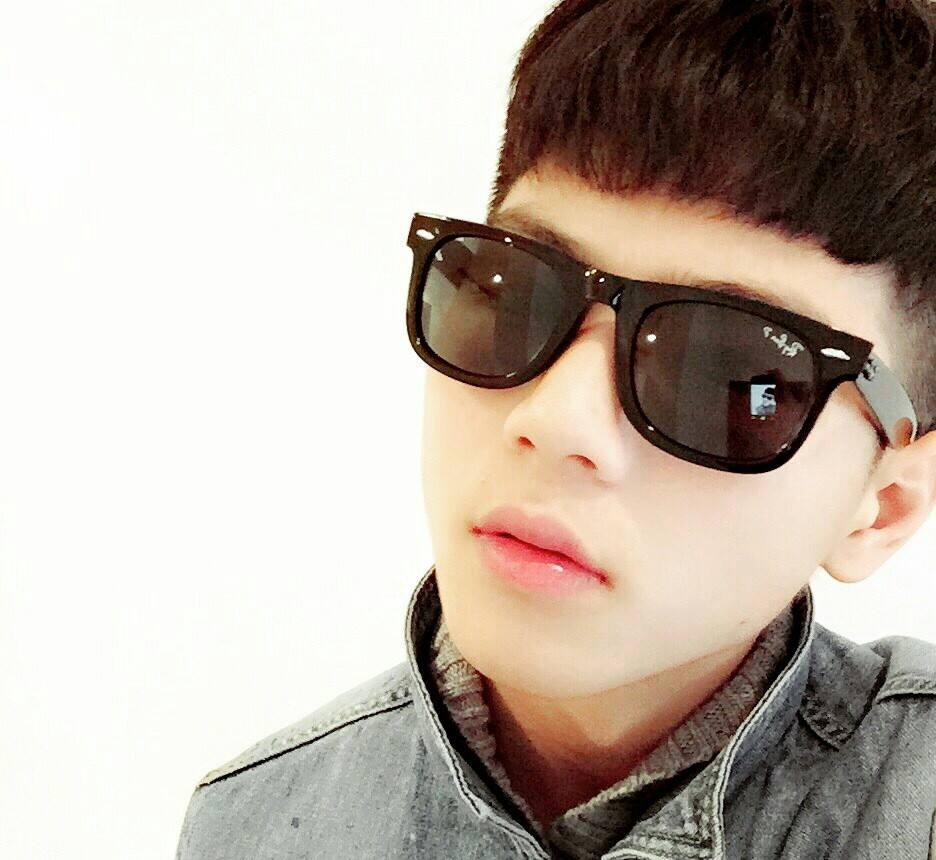person: (282, 31, 908, 630)
